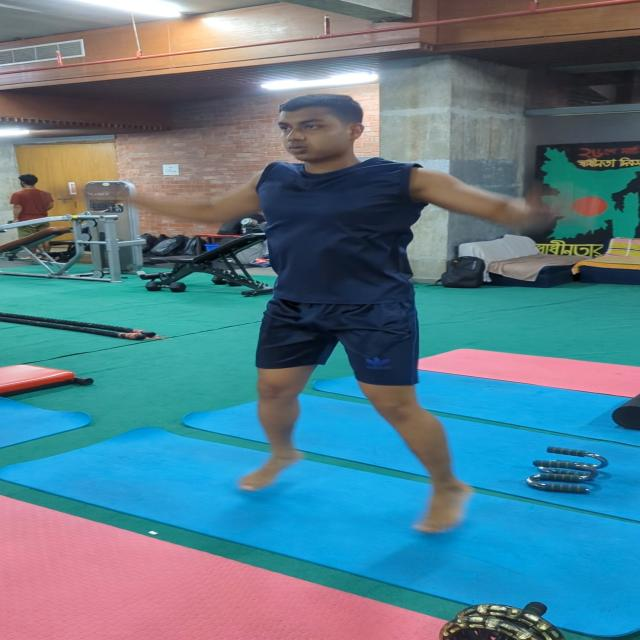Normal_JumpingJacks: (83, 89, 510, 559)
